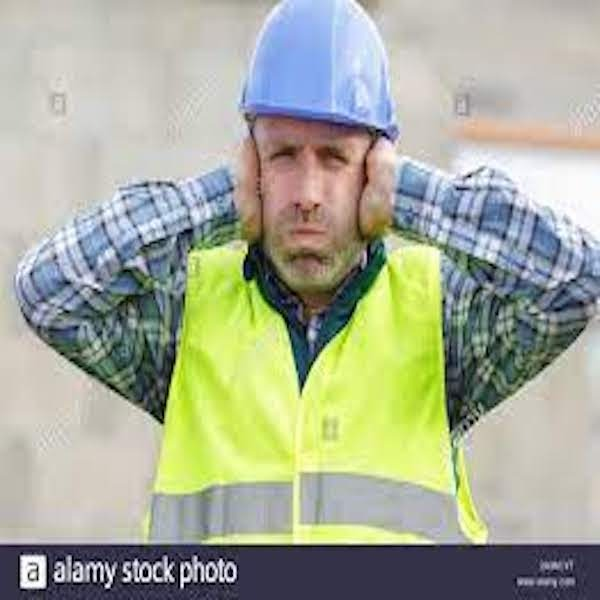helmet: (241, 3, 396, 119)
vest: (161, 253, 478, 542)
